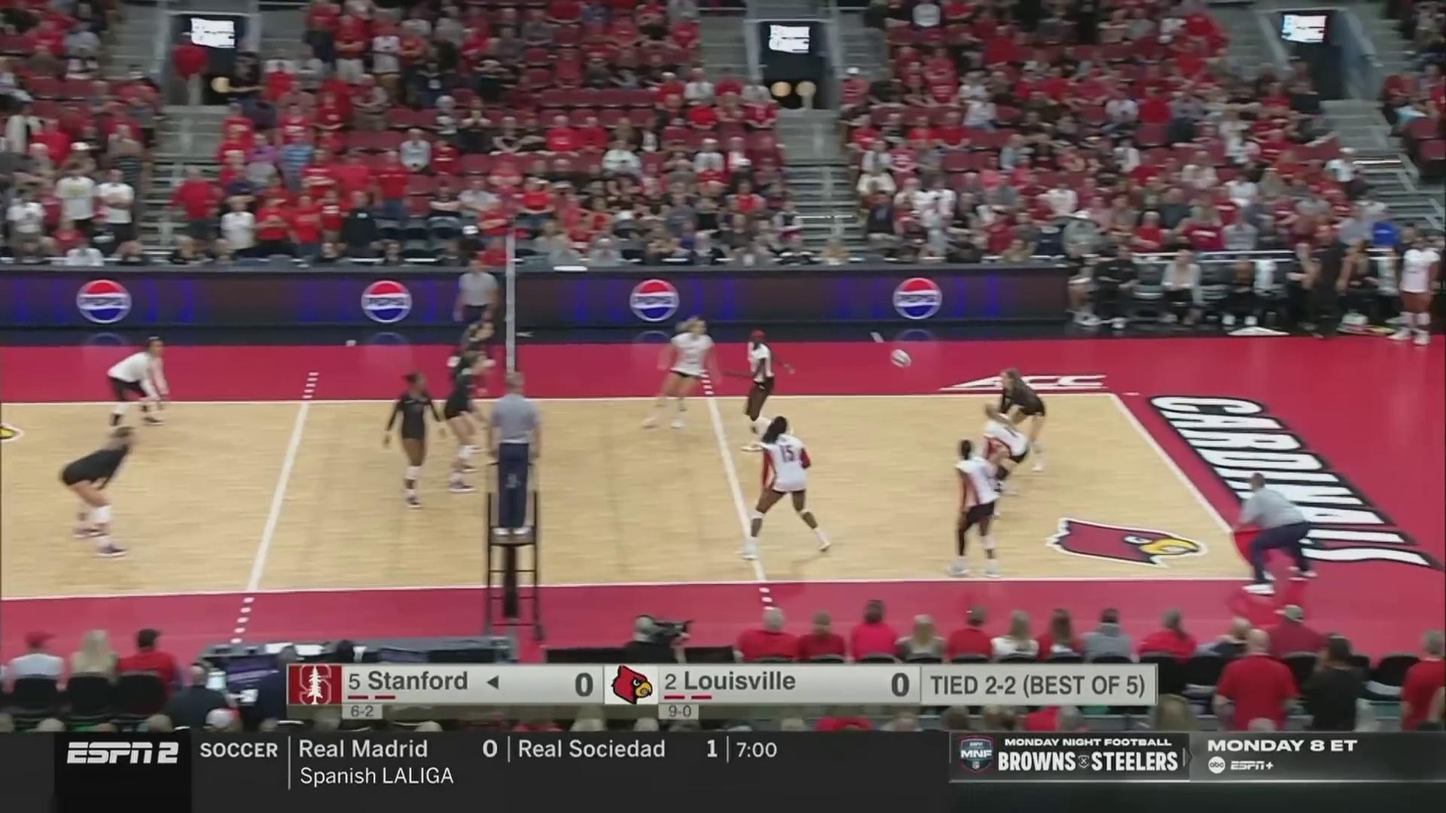player: (739, 417, 830, 557), (62, 422, 144, 552), (643, 317, 722, 434), (385, 372, 449, 510), (731, 329, 795, 454), (948, 444, 1006, 577), (449, 317, 495, 456), (995, 371, 1057, 470), (443, 359, 488, 493), (103, 338, 168, 429), (982, 406, 1033, 497)
refree: (1226, 471, 1313, 590), (489, 381, 540, 534), (452, 256, 502, 371)
